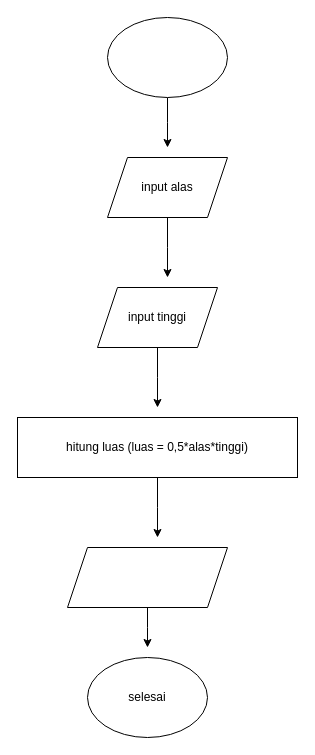
Image size: 315x755. Some labels were removed from this diagram. Here are the shapes that lost their labels. From the top down, the centre of each, then its label:
At point (167, 57): "mulai".
At point (147, 577): "output luas segitiga".
